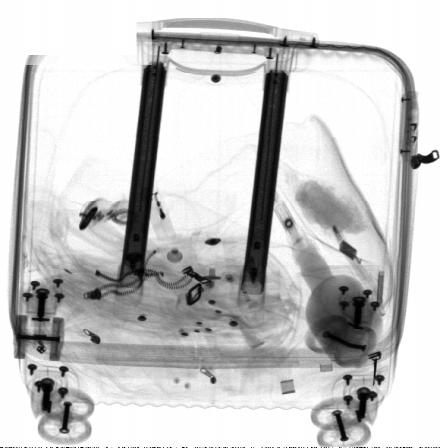Lighter: (141, 185, 176, 241)
